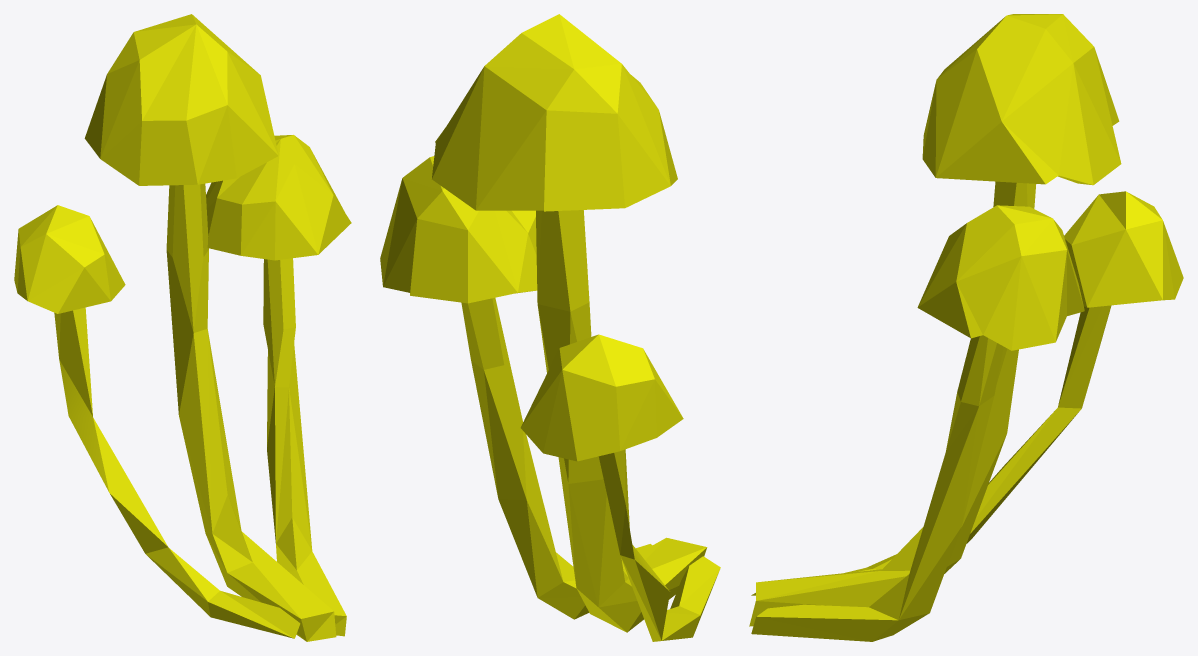
Rendered from SM_Prop_Mushroom_01.glb.
3 renders of one model, left to right at view 1: azimuth 30°, elevation 25°; view 2: azimuth 150°, elevation 25°; view 3: azimuth 270°, elevation 25°, orthographic. The views are drawn at different scales.
Parts seen in each view (by area): view 1: SM_Prop_Mushroom_01; view 2: SM_Prop_Mushroom_01; view 3: SM_Prop_Mushroom_01.
Part boxes in pixels (box(x1,y1,x2,y2)): SM_Prop_Mushroom_01: box(14, 14, 351, 641); SM_Prop_Mushroom_01: box(380, 14, 720, 641); SM_Prop_Mushroom_01: box(749, 14, 1183, 641).
Size of the model in its own units: 0.1638 by 0.3038 by 0.199.
